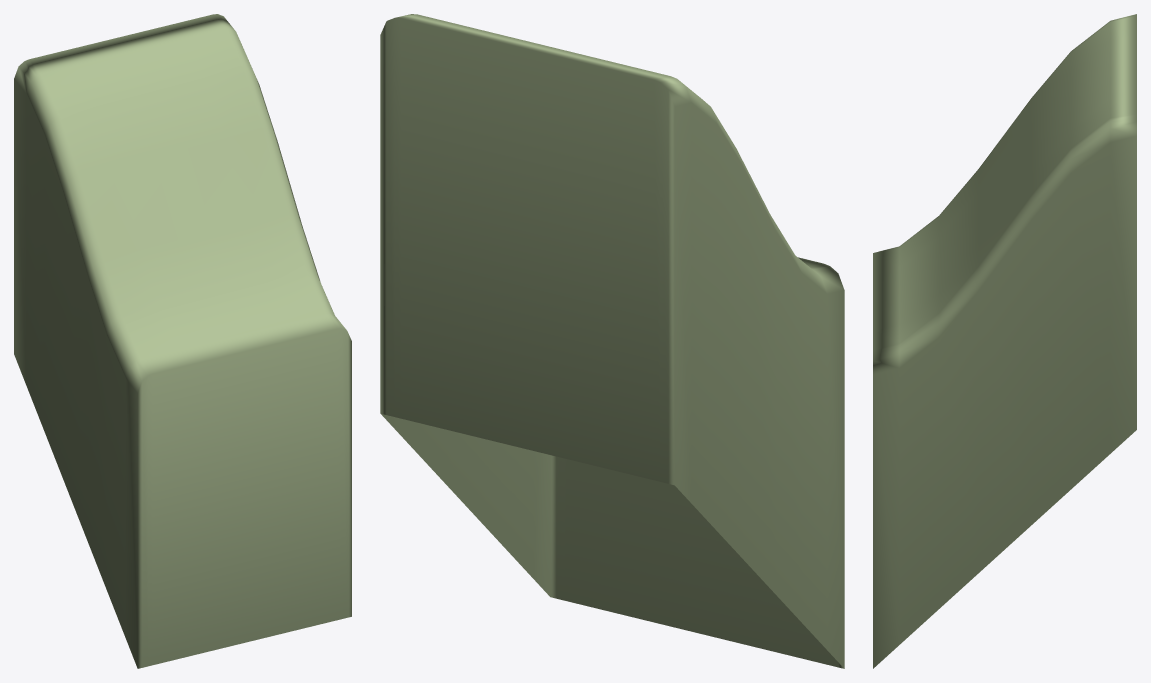
Rendered from ground-ramp-lr-00.glb.
3 renders of one model, left to right at view 1: azimuth 30°, elevation 25°; view 2: azimuth 150°, elevation 25°; view 3: azimuth 270°, elevation 25°, orthographic. The views are drawn at different scales.
Visible parts, largest first — view 1: ground-ramp-lr-00; view 2: ground-ramp-lr-00; view 3: ground-ramp-lr-00.
Part boxes in pixels (x1,y1,x2,y2): ground-ramp-lr-00: (14,14,351,668); ground-ramp-lr-00: (380,14,844,668); ground-ramp-lr-00: (873,14,1136,668).
Bounding box in the file's own units: 1 × 2.3 × 1.
